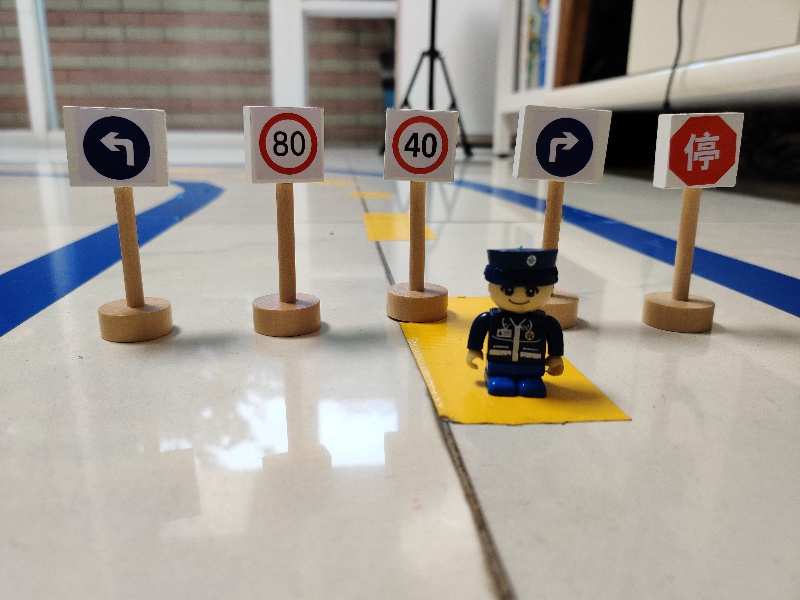limit_40: (382, 106, 459, 184)
limit_80: (242, 101, 326, 186)
person: (463, 245, 572, 399)
stop: (653, 109, 745, 190)
turn_left: (60, 104, 171, 189)
turn_right: (511, 103, 613, 185)
